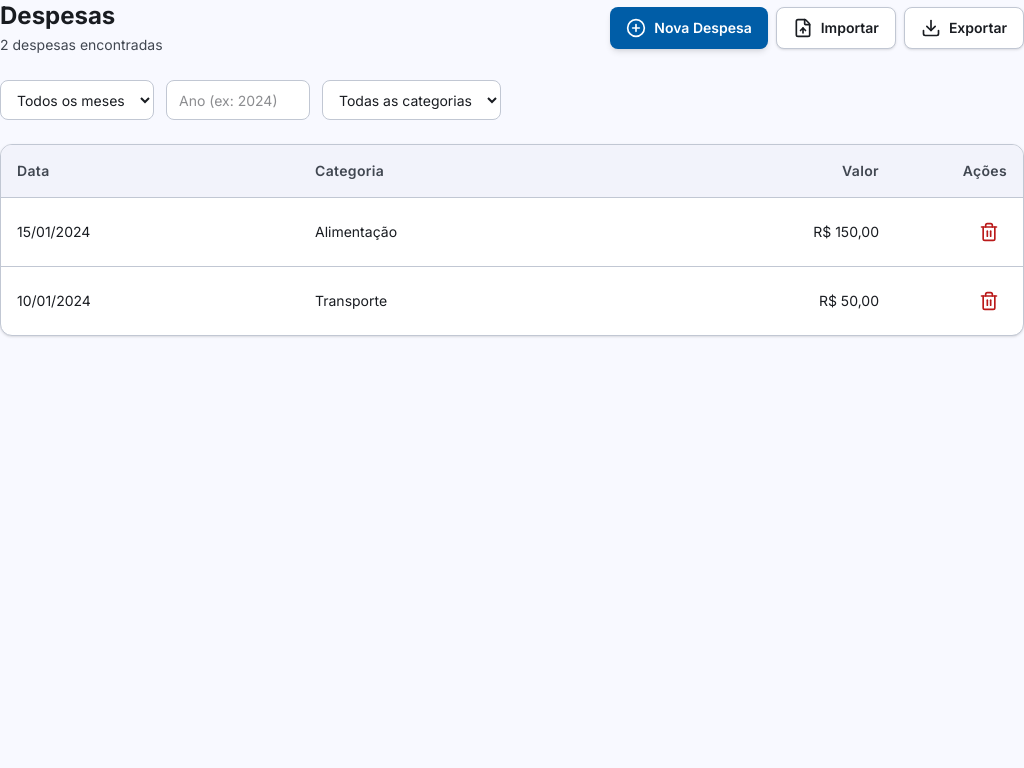
ExpensesPage › opens AddExpenseModal when "Nova Despesa" is clicked
Click the button "Nova Despesa".
click(689, 28)  # box top-left (610, 7), bottom-right (768, 49)
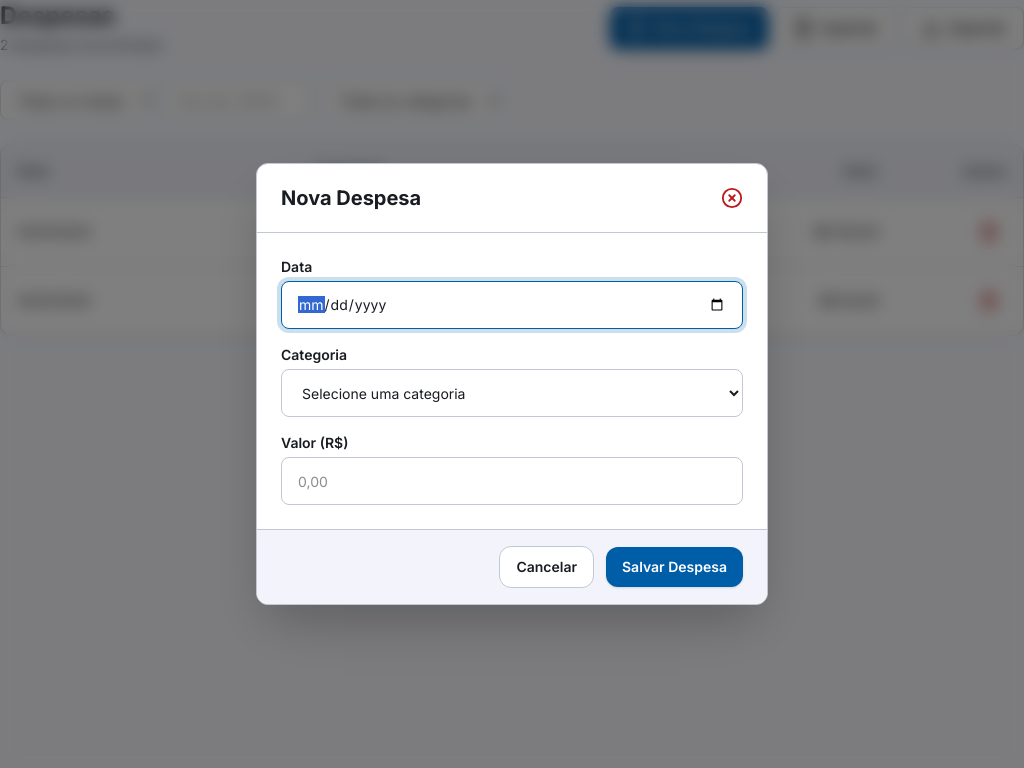
Expected: the dialog is shown
Expected: the heading "Nova Despesa" is shown, top-left (281, 184), bottom-right (421, 212)
